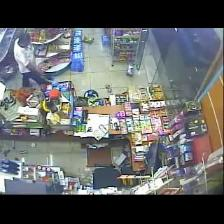person: (14, 34, 47, 87)
